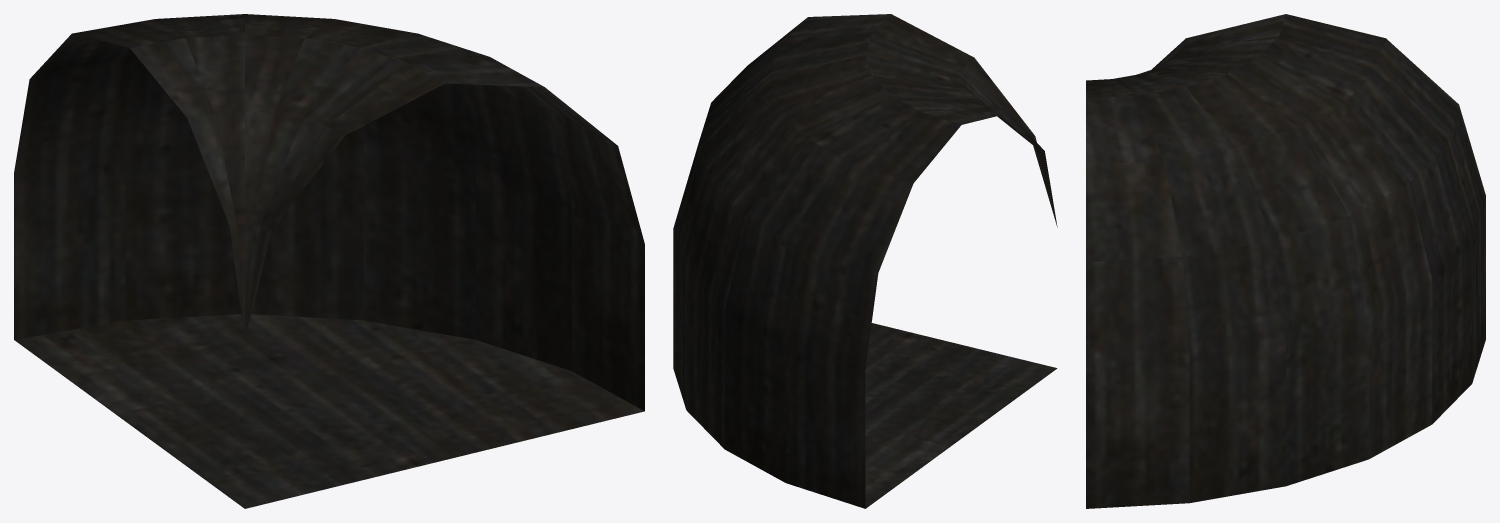
File: tunnel_1_elbow.obj
The picture shows the model from 3 angles, left to right: view 1: azimuth 30°, elevation 25°; view 2: azimuth 150°, elevation 25°; view 3: azimuth 270°, elevation 25°; orthographic projection. The views are drawn at different scales.
Visible parts, largest first — view 1: tunnel_1_elbow; view 2: tunnel_1_elbow; view 3: tunnel_1_elbow.
Boxes of the visible parts, left/top/right/bottom form: tunnel_1_elbow: left=14, top=14, right=644, bottom=508; tunnel_1_elbow: left=673, top=14, right=1057, bottom=508; tunnel_1_elbow: left=1086, top=14, right=1485, bottom=508.
Bounding box in the file's own units: 2 × 1.8 × 2.
